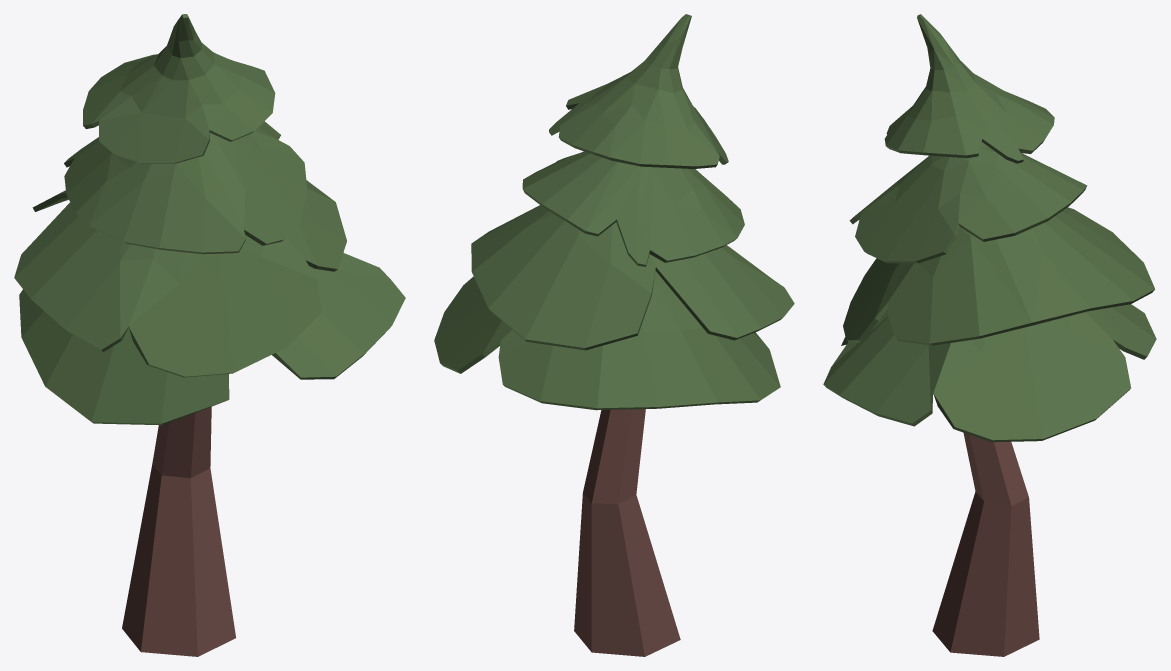
Rendered from GL_Tree 1.fbx.
The picture shows the model from 3 angles, left to right: view 1: azimuth 30°, elevation 25°; view 2: azimuth 150°, elevation 25°; view 3: azimuth 270°, elevation 25°; orthographic projection. The views are drawn at different scales.
Visible parts, largest first — view 1: PineTree_5; view 2: PineTree_5; view 3: PineTree_5.
Boxes of the visible parts, <box> form: PineTree_5: <box>14,14,405,656</box>; PineTree_5: <box>434,14,794,656</box>; PineTree_5: <box>823,14,1156,656</box>.
Bounding box in the file's own units: 201 × 368 × 183.
